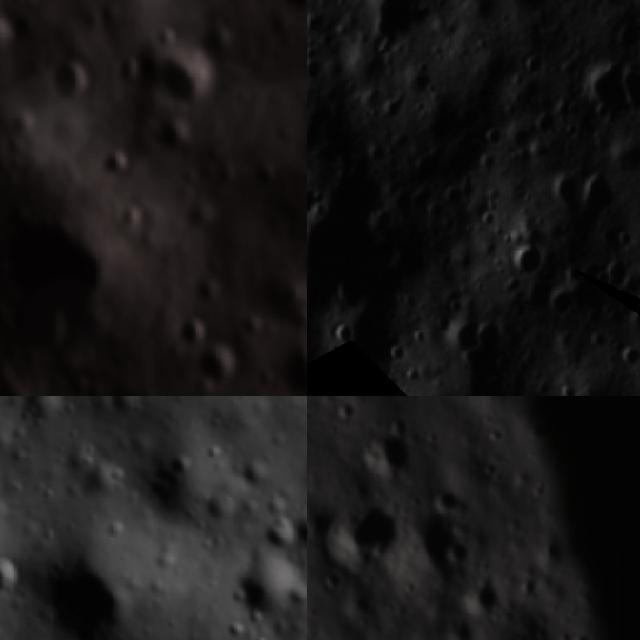crater: (37, 550, 141, 640), (324, 496, 406, 568), (407, 507, 478, 582), (231, 549, 307, 612), (172, 43, 212, 117), (364, 434, 415, 479), (581, 168, 621, 219), (204, 347, 244, 396), (461, 578, 506, 617), (504, 243, 546, 283), (548, 170, 587, 210), (52, 62, 88, 105), (448, 315, 484, 354), (172, 315, 214, 346), (0, 12, 31, 52), (0, 551, 22, 605), (429, 482, 465, 514), (387, 405, 418, 437), (517, 52, 550, 81), (624, 60, 640, 119), (442, 538, 473, 568), (445, 613, 478, 640), (616, 339, 640, 373), (107, 143, 135, 172), (167, 448, 195, 477), (559, 623, 602, 640), (122, 203, 147, 231), (196, 275, 220, 303), (334, 396, 359, 422), (330, 321, 354, 348), (307, 180, 323, 219), (307, 56, 329, 84), (520, 572, 542, 598), (307, 9, 328, 36), (322, 566, 346, 589), (483, 422, 505, 445), (184, 168, 204, 189), (8, 138, 28, 156), (307, 516, 315, 541)
